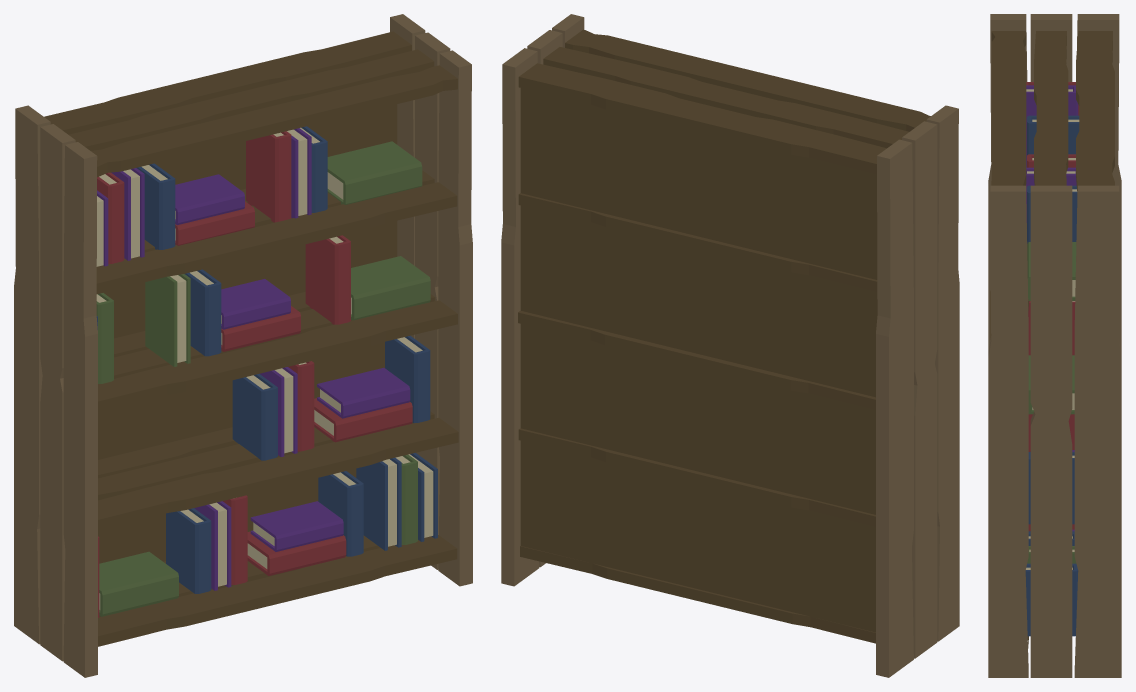
File: Bookcase_Full.glb
3 renders of one model, left to right at view 1: azimuth 30°, elevation 25°; view 2: azimuth 150°, elevation 25°; view 3: azimuth 270°, elevation 25°, orthographic. The views are drawn at different scales.
Parts seen in each view (by area): view 1: Bookcase_Full; view 2: Bookcase_Full; view 3: Bookcase_Full.
Part boxes in pixels (x1,y1,x2,y2): Bookcase_Full: (14,14,472,677); Bookcase_Full: (501,14,959,677); Bookcase_Full: (988,14,1121,677).
Bounding box in the file's own units: 2.08 × 2.65 × 0.6581.
1 material, 1 textured.
